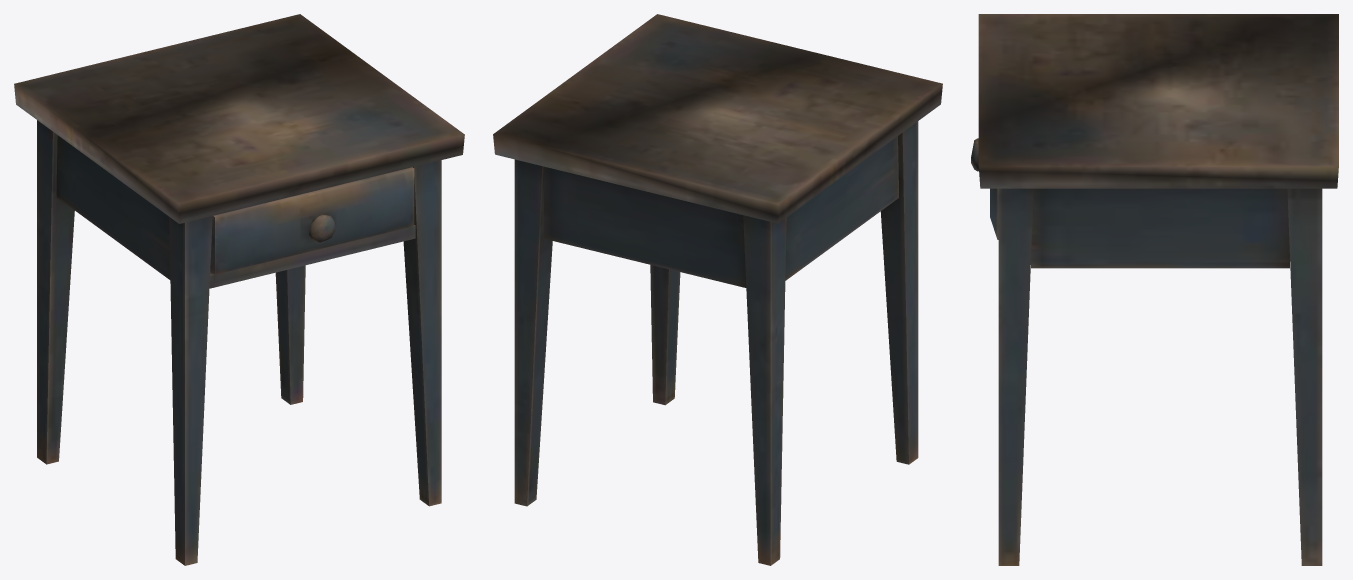
File: painted_wooden_nightstand_lod1.glb
The picture shows the model from 3 angles, left to right: view 1: azimuth 30°, elevation 25°; view 2: azimuth 150°, elevation 25°; view 3: azimuth 270°, elevation 25°; orthographic projection. The views are drawn at different scales.
Visible parts, largest first — view 1: painted_wooden_nightstand, painted_wooden_nightstand_drawer; view 2: painted_wooden_nightstand; view 3: painted_wooden_nightstand, painted_wooden_nightstand_drawer.
Part boxes in pixels (box(x1,y1,x2,y2)): painted_wooden_nightstand: box(14, 14, 464, 565); painted_wooden_nightstand_drawer: box(210, 167, 414, 274); painted_wooden_nightstand: box(493, 14, 942, 565); painted_wooden_nightstand: box(978, 14, 1338, 565); painted_wooden_nightstand_drawer: box(971, 138, 998, 239).
Size of the model in its own units: 0.4921 by 0.6115 by 0.5011.
Materials: 1 (1 with a texture image).
